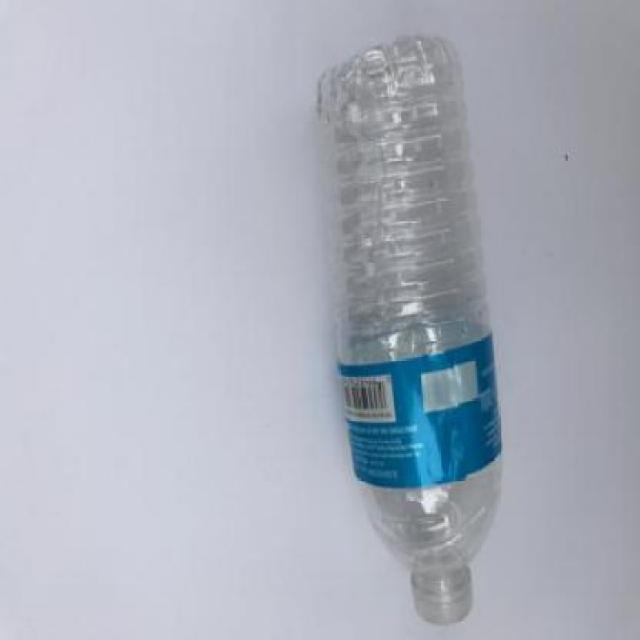Plastic: (313, 34, 506, 625)
